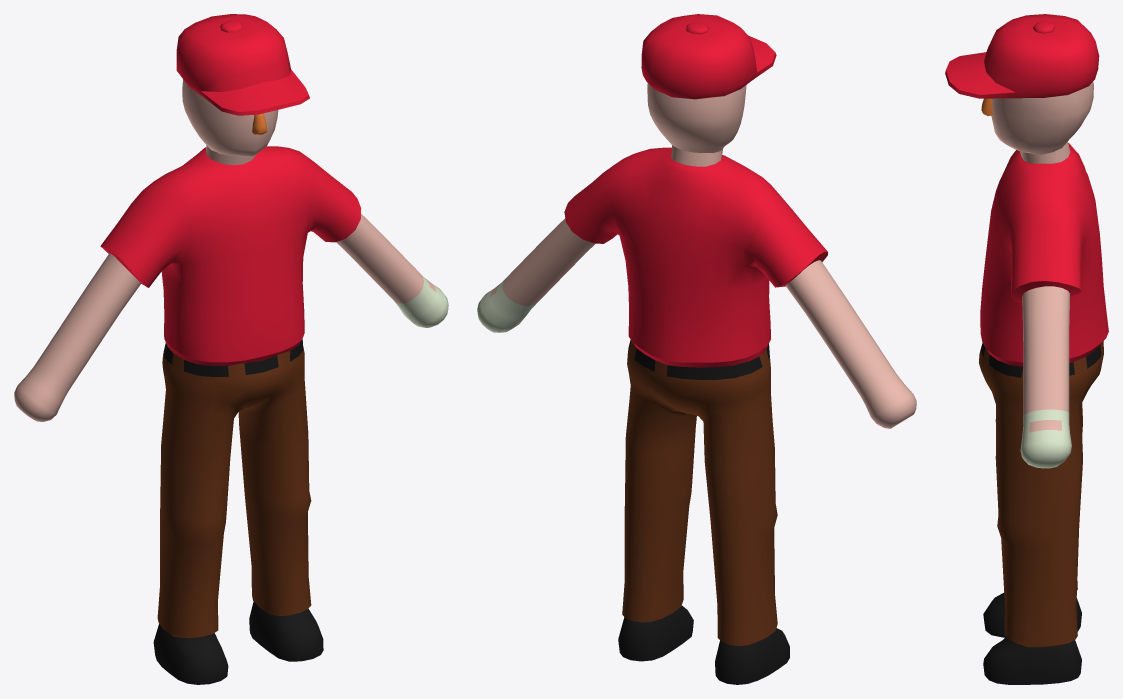
File: golfer.fbx
3 views of the same model, side by side, from view 1: azimuth 30°, elevation 25°; view 2: azimuth 150°, elevation 25°; view 3: azimuth 270°, elevation 25° (orthographic).
Visible parts, largest first — view 1: Cube.003; view 2: Cube.003; view 3: Cube.003.
Boxes of the visible parts, x1=… form: Cube.003: x1=14, y1=14, x2=448, y2=684; Cube.003: x1=477, y1=14, x2=916, y2=684; Cube.003: x1=945, y1=14, x2=1108, y2=684.
Bounding box in the file's own units: 1.34 × 1.89 × 0.4479.
